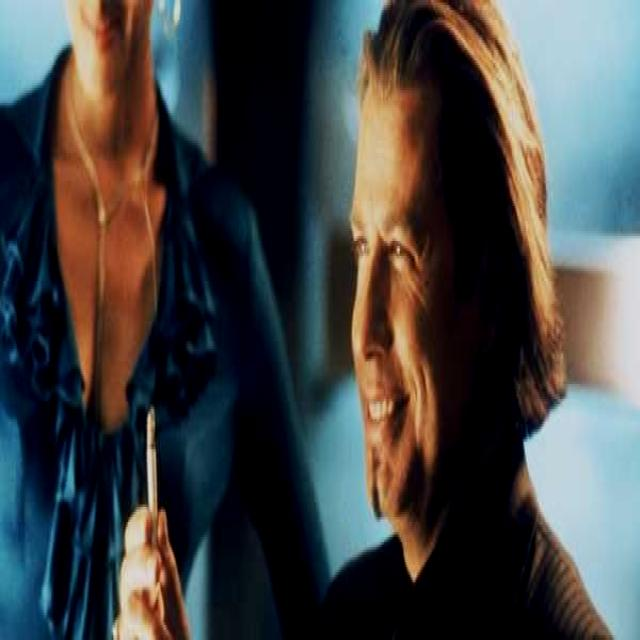Smooking: (139, 394, 162, 555)
